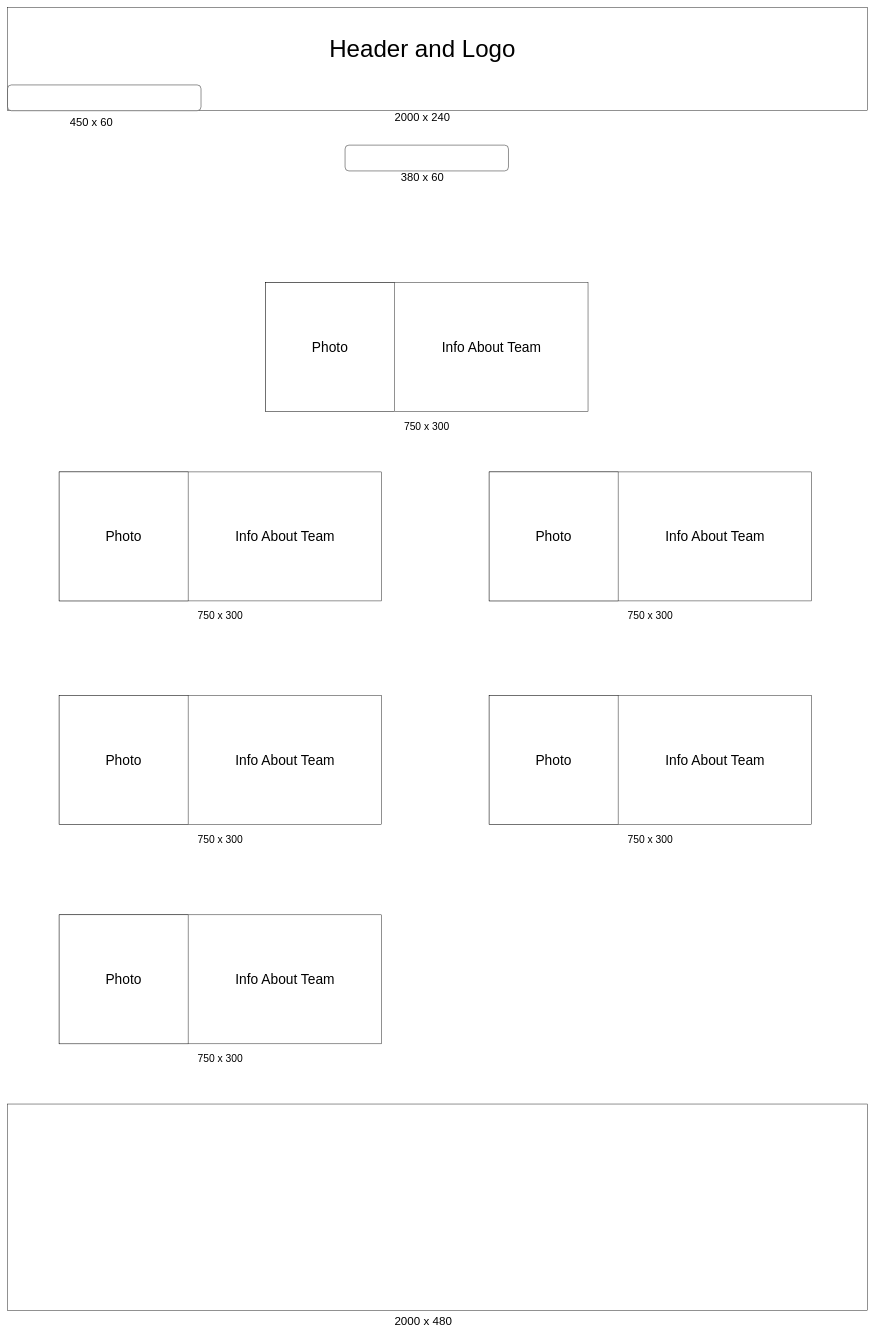
This 875x1336 diagram has some shape labels left out. The shapes that lost their labels are listed below. From the top down, each one's centre as x and y in pixels, then its label:
At point (104, 97): "Nav Bar".
At point (426, 158): "Sub Header".
At point (437, 1207): "Footer".
